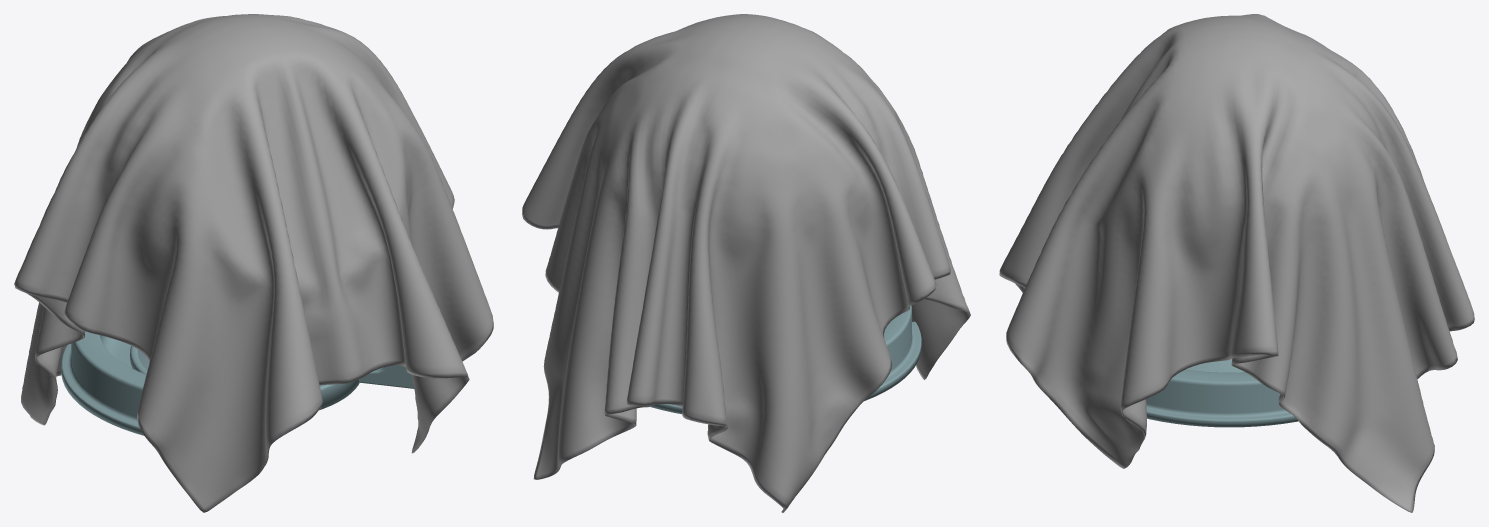
Rendered from cloth.obj.
3 renders of one model, left to right at view 1: azimuth 30°, elevation 25°; view 2: azimuth 150°, elevation 25°; view 3: azimuth 270°, elevation 25°, orthographic. The views are drawn at different scales.
Parts seen in each view (by area): view 1: Cloth_Plane.004, Material_Sphere; view 2: Cloth_Plane.004, Material_Sphere; view 3: Cloth_Plane.004, Material_Sphere.
Boxes of the visible parts, <box> form: Cloth_Plane.004: <box>14,14,493,512</box>; Material_Sphere: <box>61,331,414,435</box>; Cloth_Plane.004: <box>522,14,970,512</box>; Material_Sphere: <box>649,305,921,414</box>; Cloth_Plane.004: <box>999,14,1474,512</box>; Material_Sphere: <box>1146,359,1298,427</box>.
Size of the model in its own units: 3.04 by 2.95 by 3.02.
